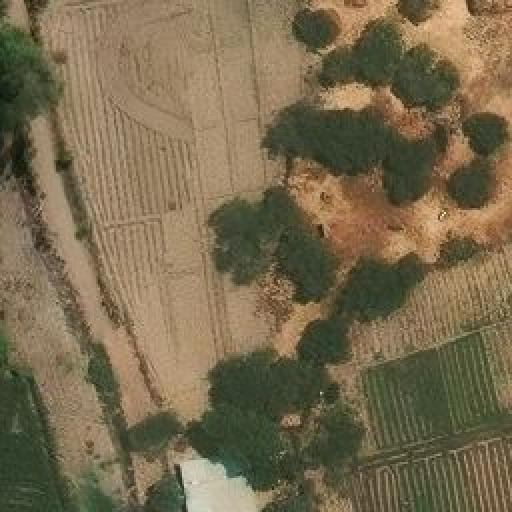manzanas: (171, 449, 268, 510)
